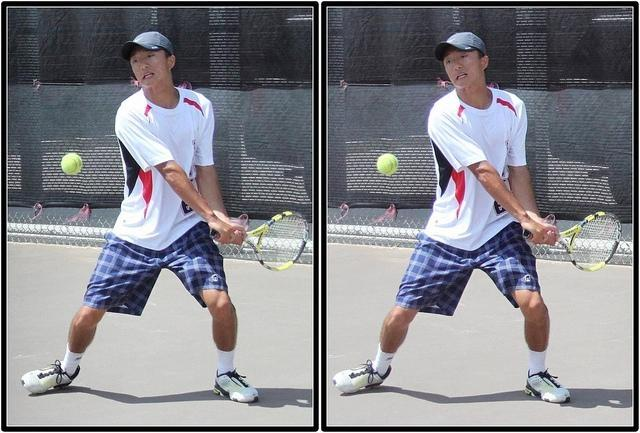car: (548, 15, 632, 205)
